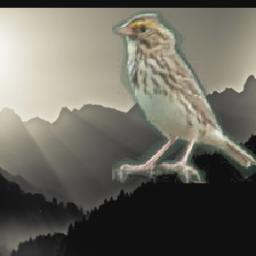Sparrow: (112, 11, 256, 183)
